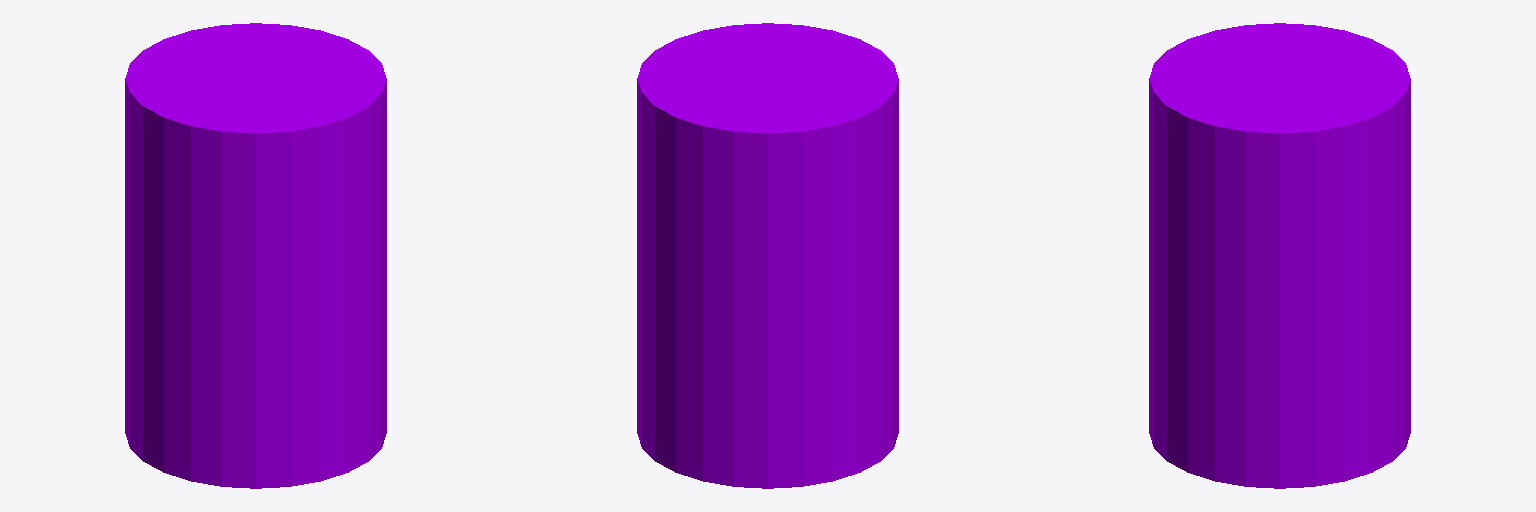
Rendered from center.obj.
3 views of the same model, side by side, from view 1: azimuth 30°, elevation 25°; view 2: azimuth 150°, elevation 25°; view 3: azimuth 270°, elevation 25° (orthographic).
Visible parts, largest first — view 1: Mesh1 Model; view 2: Mesh1 Model; view 3: Mesh1 Model.
Part boxes in pixels (left/top/right/bottom): Mesh1 Model: left=125, top=23, right=386, bottom=488; Mesh1 Model: left=637, top=23, right=898, bottom=488; Mesh1 Model: left=1149, top=23, right=1410, bottom=488.
Size of the model in its own units: 0.02 by 0.03 by 0.02.